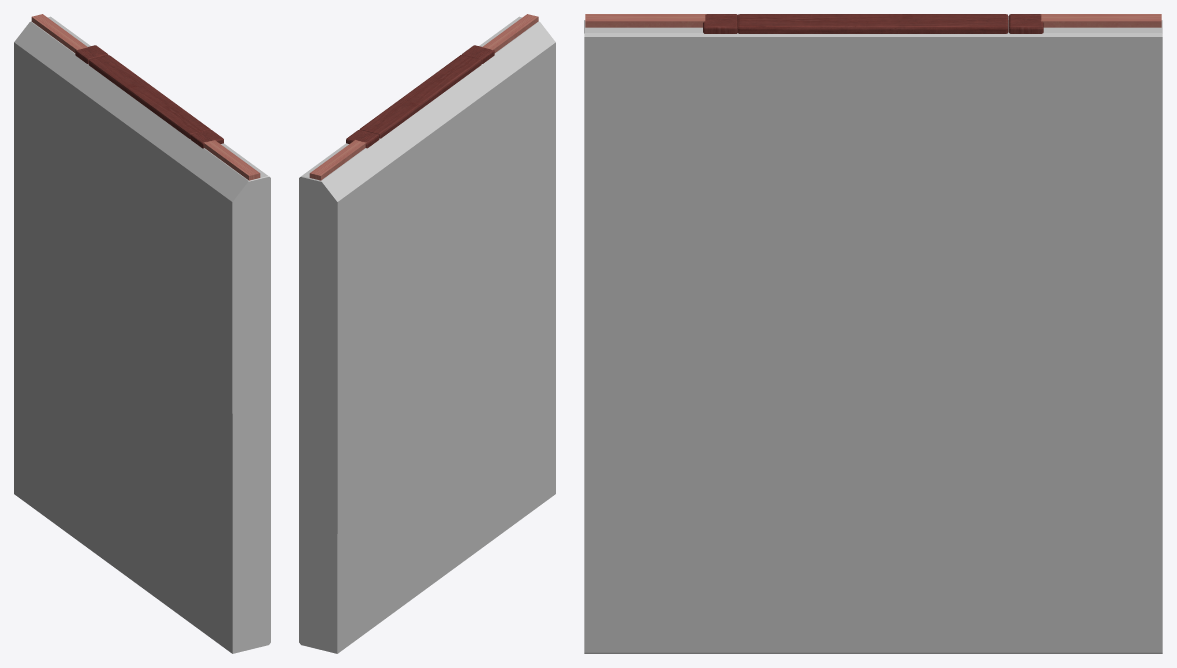
Rendered from SM_SJB_WindowFrame01H.fbx.
3 views of the same model, side by side, from view 1: azimuth 30°, elevation 25°; view 2: azimuth 150°, elevation 25°; view 3: azimuth 270°, elevation 25° (orthographic). The views are drawn at different scales.
Visible parts, largest first — view 1: SM_SJB_WindowFrame01H_ConvexHulls, SM_SJB_WindowFrame01H; view 2: SM_SJB_WindowFrame01H_ConvexHulls, SM_SJB_WindowFrame01H; view 3: SM_SJB_WindowFrame01H_ConvexHulls, SM_SJB_WindowFrame01H.
Part boxes in pixels (x1,y1,x2,y2): SM_SJB_WindowFrame01H_ConvexHulls: [14, 16, 270, 653]; SM_SJB_WindowFrame01H: [31, 14, 260, 180]; SM_SJB_WindowFrame01H_ConvexHulls: [299, 16, 555, 653]; SM_SJB_WindowFrame01H: [309, 14, 538, 180]; SM_SJB_WindowFrame01H_ConvexHulls: [584, 20, 1162, 653]; SM_SJB_WindowFrame01H: [585, 14, 1161, 33].
Size of the model in its own units: 25 by 246 by 294.
Materials: 6 (5 with a texture image).
